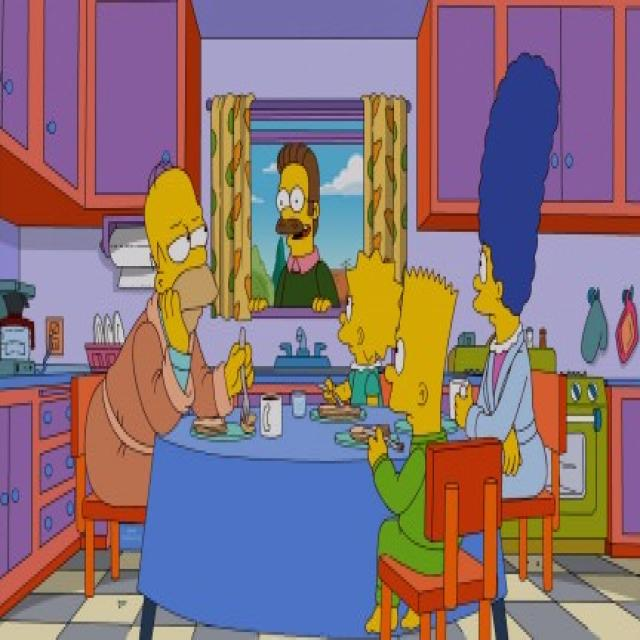Bart Simpson: (384, 267, 461, 444)
Homer Simpson: (141, 153, 223, 363)
Lisa Simpson: (335, 245, 406, 371)
Marge Simpson: (470, 47, 564, 353)
